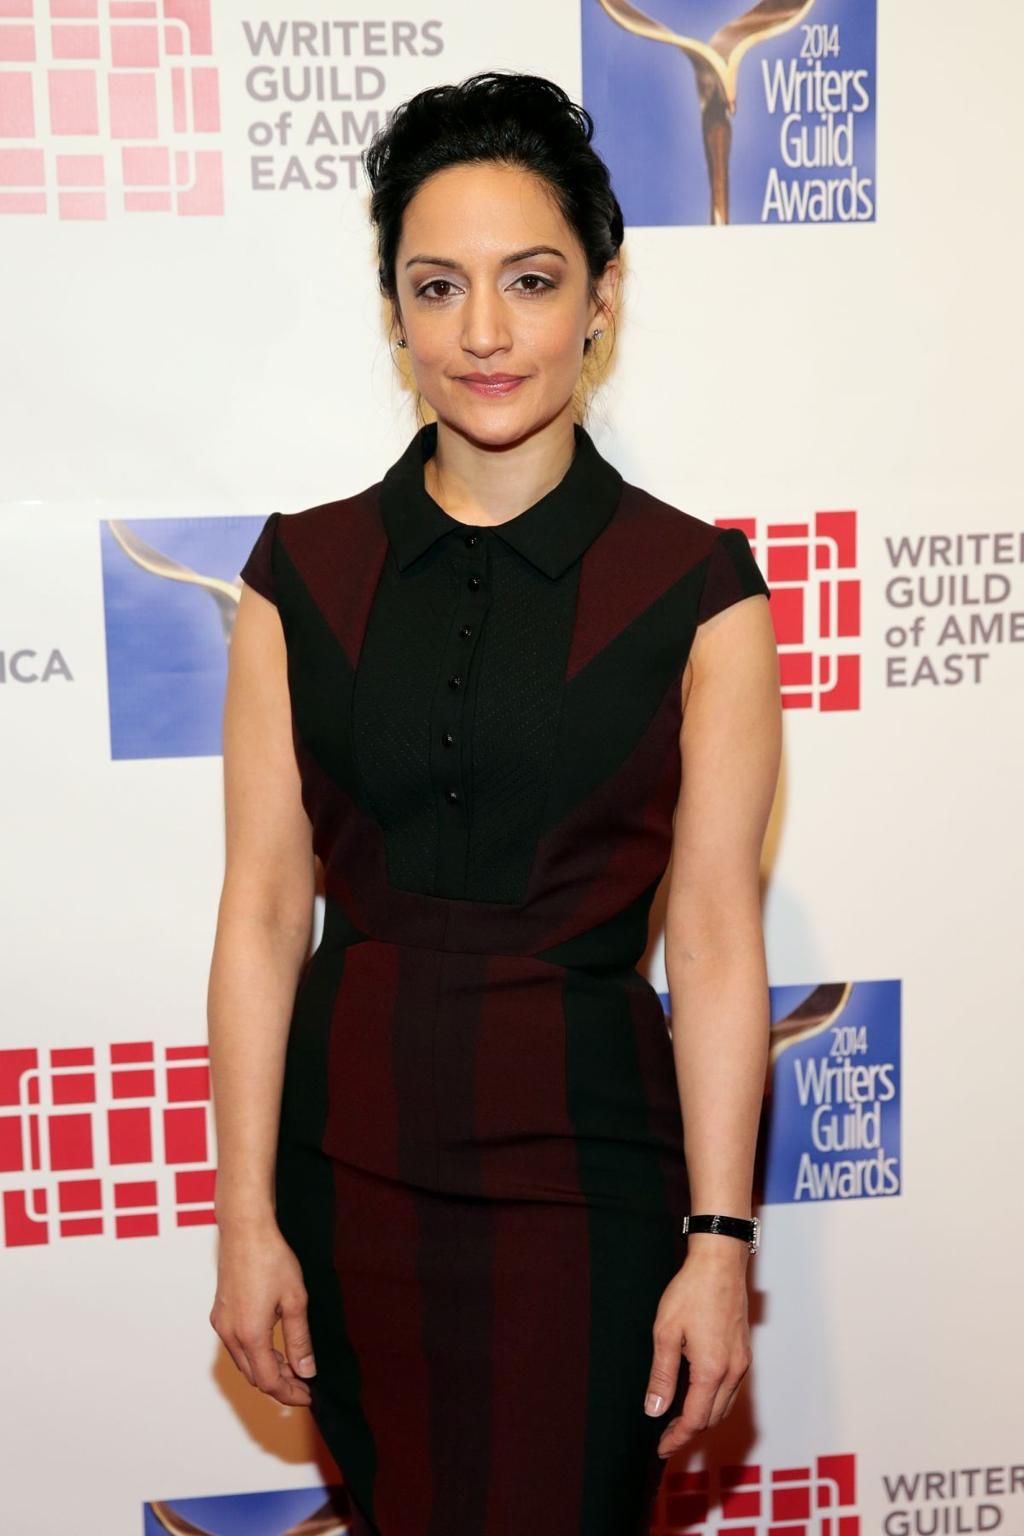face: (403, 160, 586, 457)
